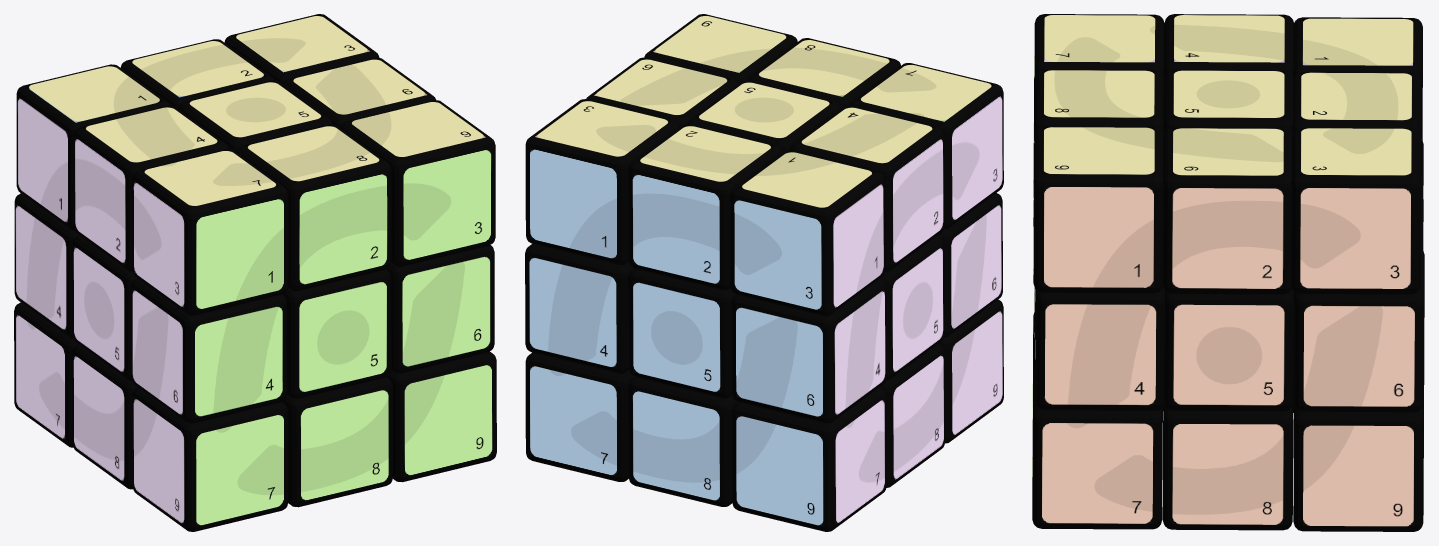
Rendered from Rubix_cube_PASTEL_trans.glb.
3 renders of one model, left to right at view 1: azimuth 30°, elevation 25°; view 2: azimuth 150°, elevation 25°; view 3: azimuth 270°, elevation 25°, orthographic. The views are drawn at different scales.
Parts seen in each view (by area): view 1: s3_block_6, s3_block_9, s3_block_3, s3_block_2, s3_block_8, s3_block_5, s3_block_7, s3_block_1, s3_block_4, top_block_7.001, s4_block_1, s4_block_4 (+34 smaller); view 2: s1_block_4, s1_block_3, s1_block_9, s1_block_8, s1_block_5, s1_block_2, s1_block_6, s1_block_7, s1_block_1, top_block_1.001, s4_block_5, s4_block_4 (+34 smaller); view 3: s2_block_5, s2_block_8, s2_block_3, s2_block_9, s2_block_2, s2_block_6, s2_block_4, s2_block_1, s2_block_7, top_block_9, top_block_3.001, top_block_6.001 (+21 smaller).
Boxes of the visible parts, <box> form: s3_block_6: <box>402,255,490,367</box>; s3_block_9: <box>404,364,492,476</box>; s3_block_3: <box>403,148,491,261</box>; s3_block_2: <box>299,172,387,285</box>; s3_block_8: <box>300,388,388,501</box>; s3_block_5: <box>299,280,387,393</box>; s3_block_7: <box>196,413,283,526</box>; s3_block_1: <box>196,197,283,310</box>; s3_block_4: <box>195,305,282,417</box>; top_block_7.001: <box>132,149,288,315</box>; s4_block_1: <box>17,96,68,223</box>; s4_block_4: <box>15,204,66,331</box>; s1_block_4: <box>529,256,616,368</box>; s1_block_3: <box>734,199,821,310</box>; s1_block_9: <box>736,415,823,526</box>; s1_block_8: <box>632,390,719,501</box>; s1_block_5: <box>633,281,720,392</box>; s1_block_2: <box>632,173,719,284</box>; s1_block_6: <box>736,306,823,417</box>; s1_block_7: <box>530,365,616,476</box>; s1_block_1: <box>530,148,616,259</box>; top_block_1.001: <box>730,150,884,316</box>; s4_block_5: <box>892,246,943,373</box>; s4_block_4: <box>834,289,885,416</box>; s2_block_5: <box>1173,304,1284,405</box>; s2_block_8: <box>1172,424,1283,524</box>; s2_block_3: <box>1300,188,1411,288</box>; s2_block_9: <box>1303,425,1414,526</box>; s2_block_2: <box>1172,188,1283,288</box>; s2_block_6: <box>1303,305,1414,406</box>; s2_block_4: <box>1044,304,1156,405</box>; s2_block_1: <box>1043,186,1154,287</box>; s2_block_7: <box>1041,423,1153,523</box>; top_block_9: <box>1033,126,1163,293</box>; top_block_3.001: <box>1291,127,1421,294</box>; top_block_6.001: <box>1163,127,1292,294</box>.
Size of the model in its own units: 6.08 by 6.09 by 6.04.
Materials: 7 (6 with a texture image).
